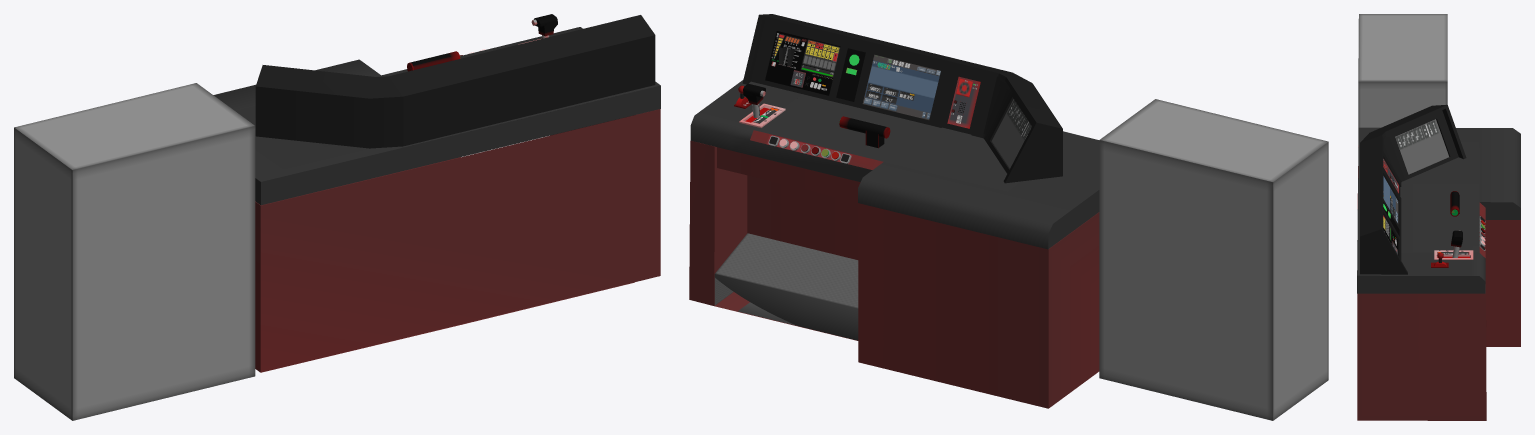
File: [V1.3] JR_Cab.fbx
3 renders of one model, left to right at view 1: azimuth 30°, elevation 25°; view 2: azimuth 150°, elevation 25°; view 3: azimuth 270°, elevation 25°, orthographic. The views are drawn at different scales.
Visible parts, largest first — view 1: Box, Base3, Base1_new, Base2; view 2: Box, Base3, Base2, Base1_new, Base4, Display, Bogo_Musen, DeadMan_System; view 3: Base3, Base2, Box, Base1_new, Display, MasConPed, JR_OneMascon, DeadMan_System.
Part boxes in pixels (x1,y1,x2,y2): Box: (14,83,255,420); Base3: (255,109,660,372); Base1_new: (255,15,655,148); Base2: (213,27,660,205); Box: (1099,99,1328,420); Base3: (689,140,1099,408); Base2: (690,80,1099,249); Base1_new: (742,14,1062,183); Base4: (714,233,858,340); Display: (765,31,1031,168); Bogo_Musen: (947,76,980,128); DeadMan_System: (839,116,890,148); Base3: (1357,145,1520,420); Base2: (1357,127,1520,293); Box: (1358,14,1447,144); Base1_new: (1360,104,1466,274); Display: (1383,119,1448,255); MasConPed: (1434,250,1473,259); JR_OneMascon: (1451,230,1462,257); DeadMan_System: (1450,191,1459,216).
Size of the model in its own units: 256 by 105 by 81.23.
1 material, 1 textured.
